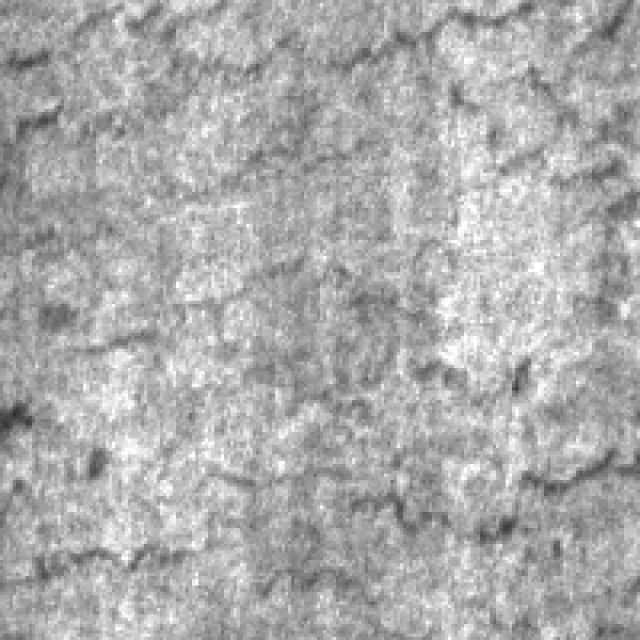crazing: (9, 0, 636, 189), (70, 58, 570, 284), (128, 346, 634, 550), (0, 230, 538, 394)
